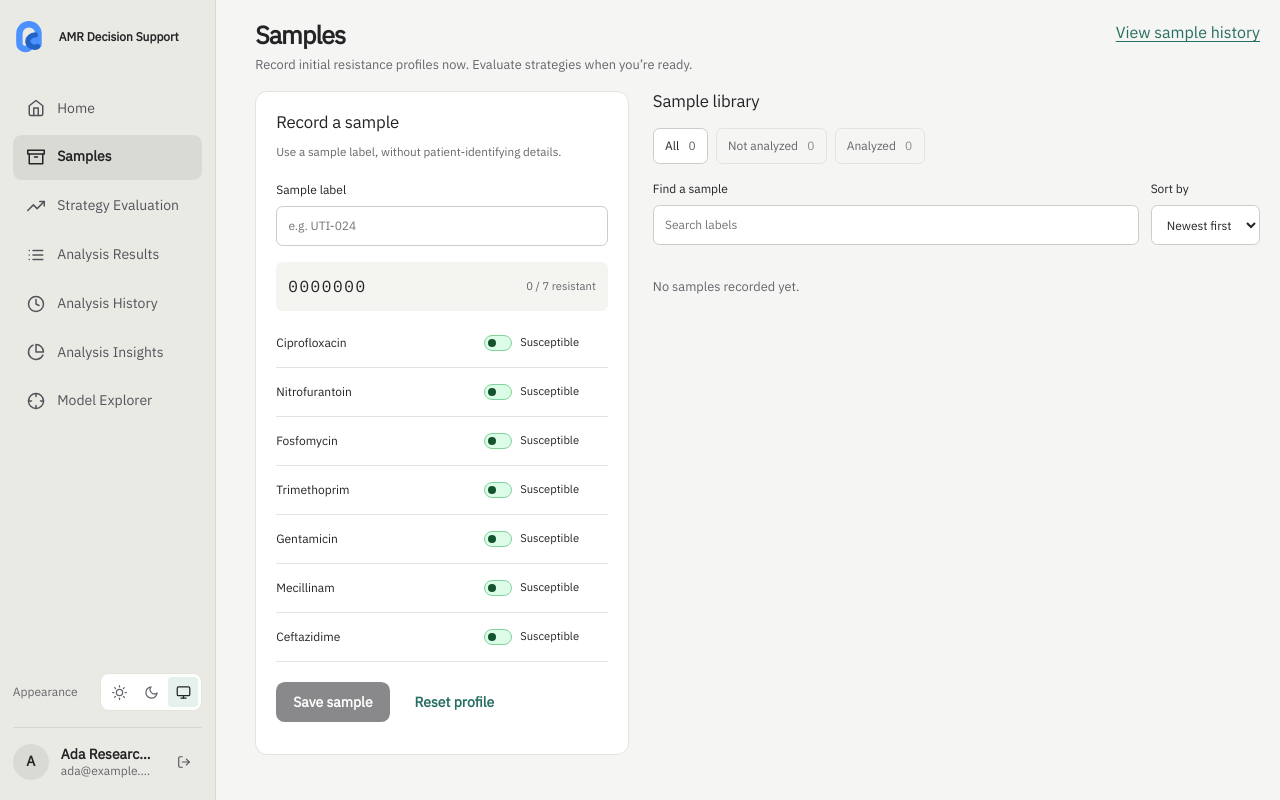
sample workflow › saves profiles without running analyses and resets for the next sample
In the field labelled "Sample label": {"x": 442, "y": 226} x1=276 y1=206 x2=608 y2=246, type "UTI-024"
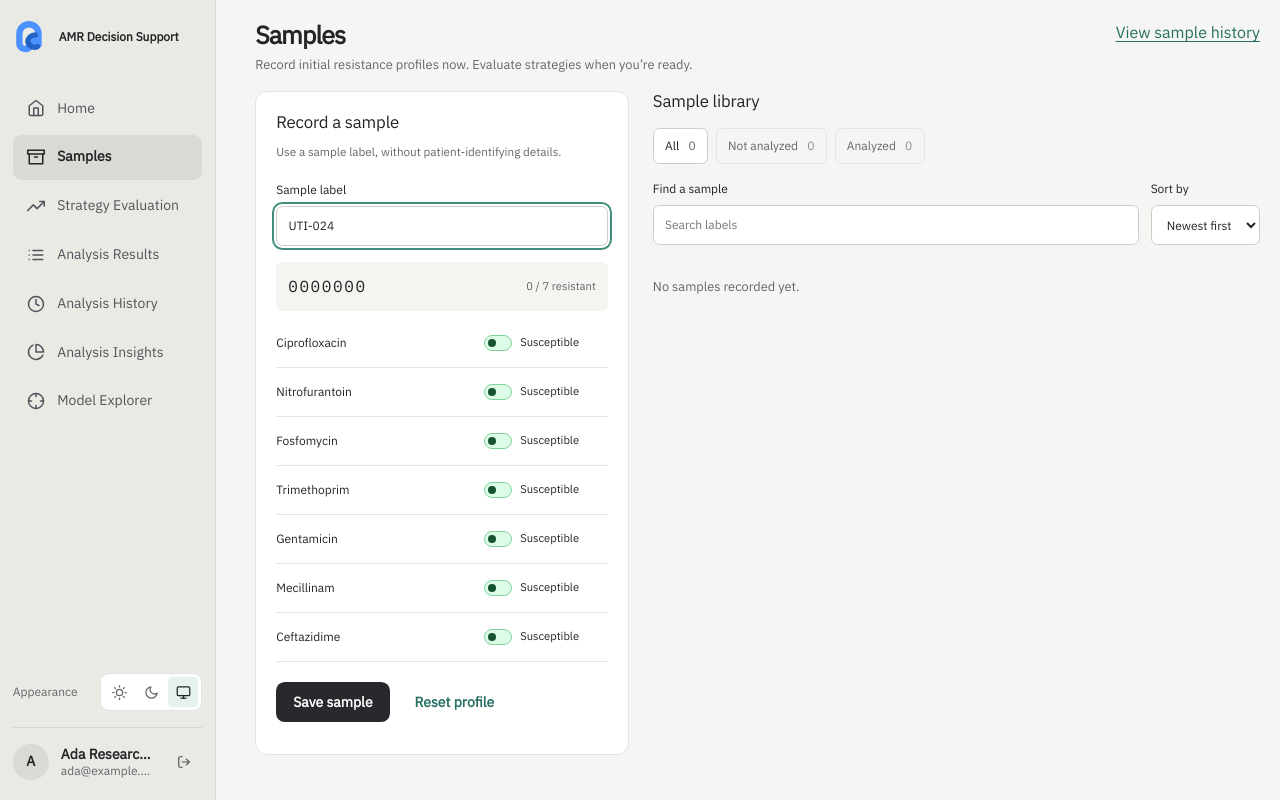
Click the switch named "Nitrofurantoin resistant": {"x": 543, "y": 392} x1=478 y1=376 x2=608 y2=408
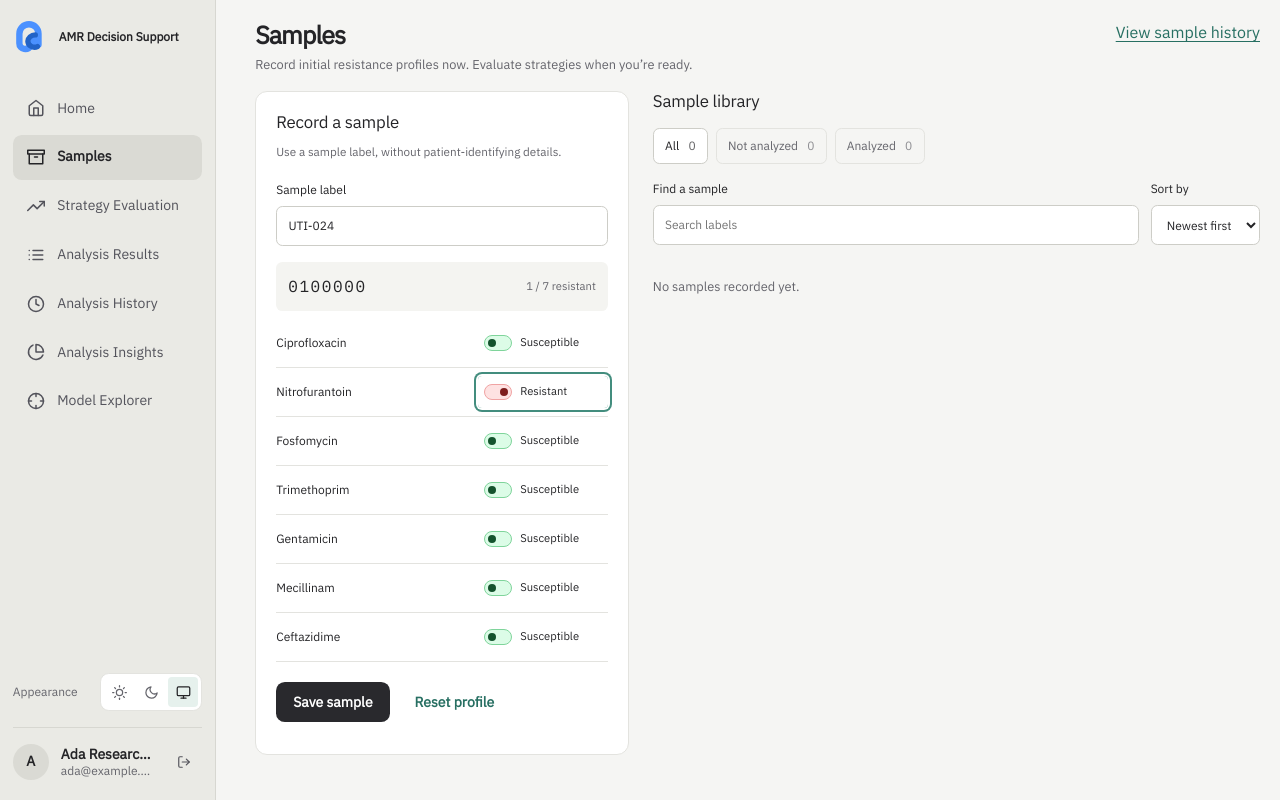
Click the button "Save sample": {"x": 333, "y": 702} x1=276 y1=682 x2=390 y2=722
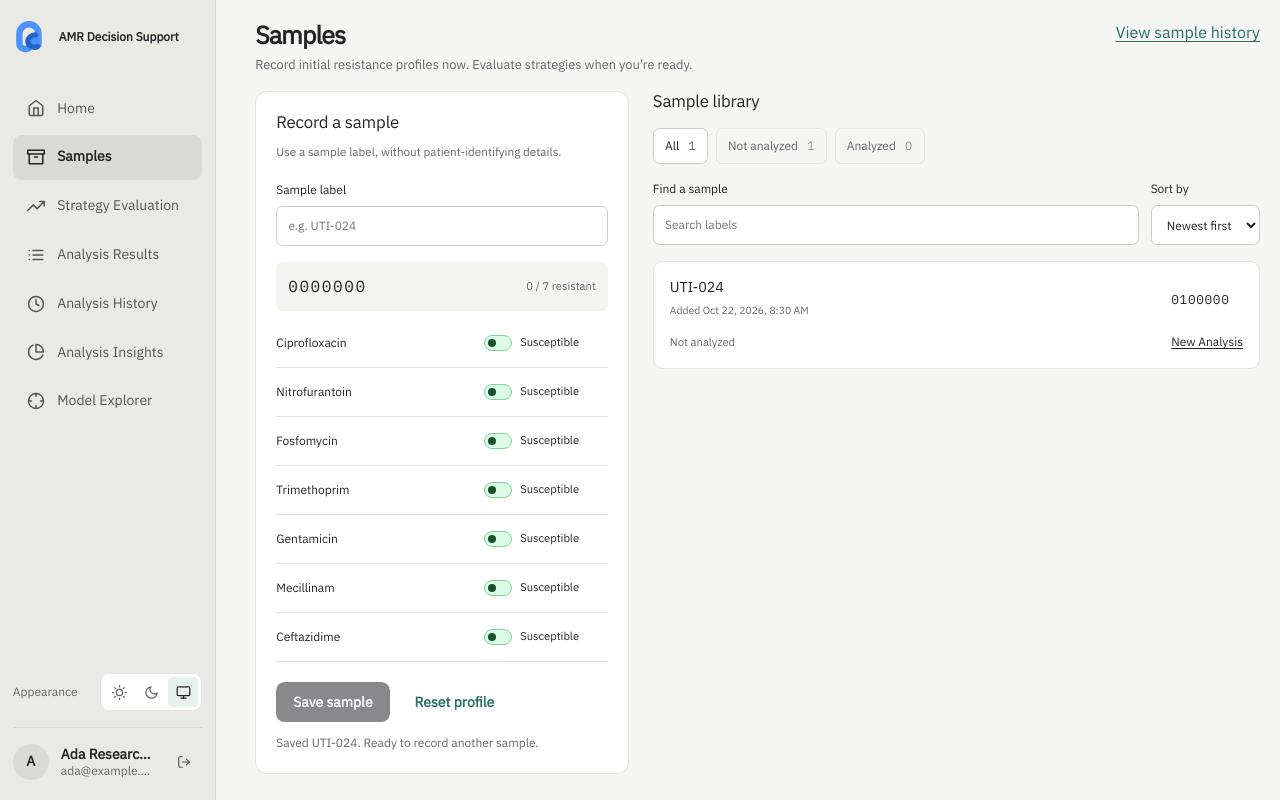
Result: the heading "UTI-024" is shown at x1=670 y1=277 x2=724 y2=296
Result: the field labelled "Sample label" is empty at x1=276 y1=206 x2=608 y2=246
